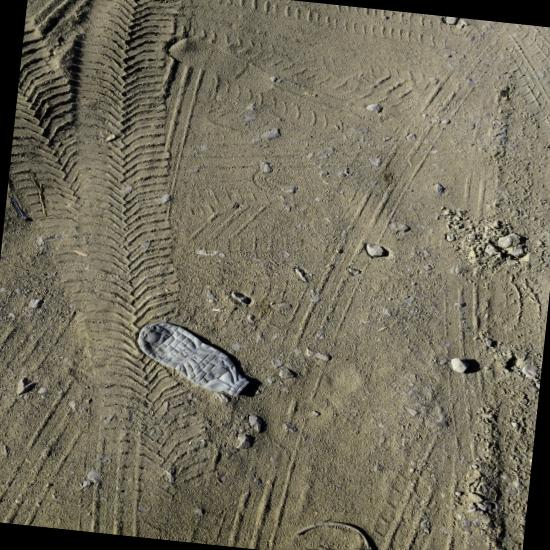Cigarette: (74, 251, 88, 257)
Clear plastic bottle: (138, 322, 250, 397)
Other plastic bottle: (296, 522, 369, 550), (12, 197, 25, 221)
